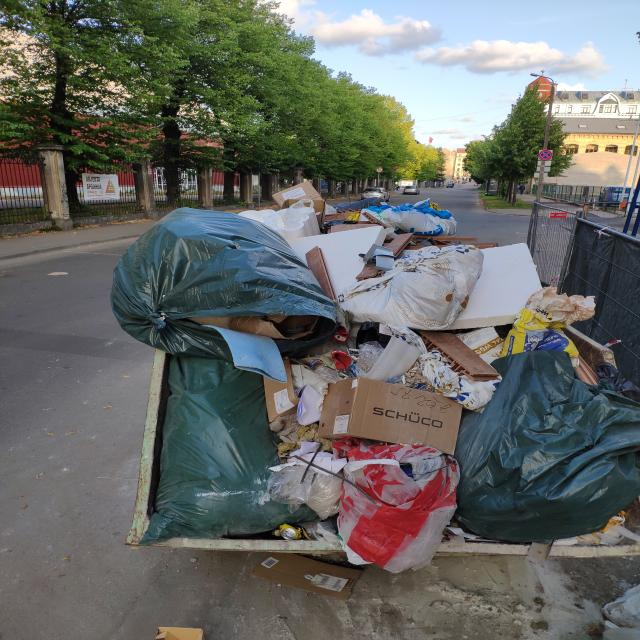lixo domiciliar: (104, 203, 346, 364), (464, 356, 640, 540), (157, 354, 330, 540), (334, 451, 466, 580), (362, 242, 543, 330), (316, 374, 473, 456), (278, 179, 457, 238), (497, 304, 584, 371), (344, 332, 432, 394), (263, 363, 330, 439), (426, 319, 502, 386), (276, 448, 349, 515), (415, 341, 472, 401)
